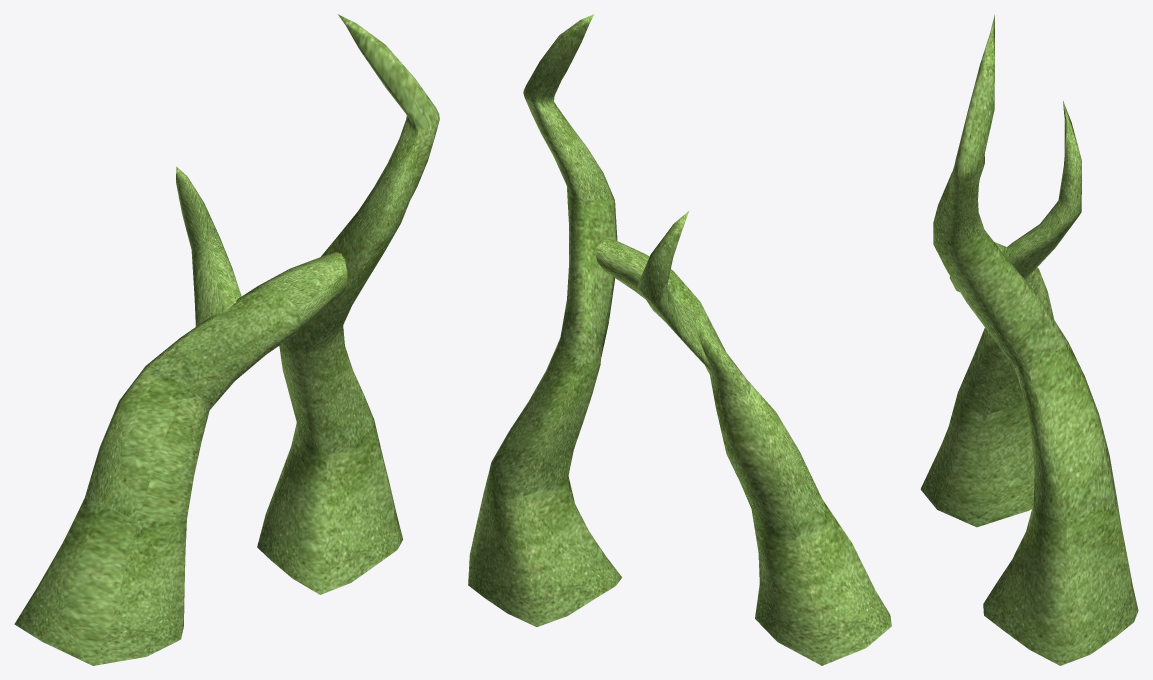
The picture shows the model from 3 angles, left to right: view 1: azimuth 30°, elevation 25°; view 2: azimuth 150°, elevation 25°; view 3: azimuth 270°, elevation 25°; orthographic projection. The views are drawn at different scales.
Parts seen in each view (by area): view 1: ColobotMesh_1.001_ColobotMesh_.001, ColobotMesh_1.002_ColobotMesh_.002, ColobotMesh_1_ColobotMesh_; view 2: ColobotMesh_1.002_ColobotMesh_.002, ColobotMesh_1.001_ColobotMesh_.001, ColobotMesh_1_ColobotMesh_; view 3: ColobotMesh_1.002_ColobotMesh_.002, ColobotMesh_1.001_ColobotMesh_.001, ColobotMesh_1_ColobotMesh_.
Boxes of the visible parts, x1,y1,x2,y2 form: ColobotMesh_1.001_ColobotMesh_.001: (14, 252, 347, 665); ColobotMesh_1.002_ColobotMesh_.002: (257, 14, 439, 594); ColobotMesh_1_ColobotMesh_: (176, 166, 241, 326); ColobotMesh_1.002_ColobotMesh_.002: (468, 14, 621, 626); ColobotMesh_1.001_ColobotMesh_.001: (596, 239, 891, 665); ColobotMesh_1_ColobotMesh_: (637, 211, 711, 370); ColobotMesh_1.002_ColobotMesh_.002: (933, 14, 1138, 665); ColobotMesh_1.001_ColobotMesh_.001: (920, 242, 1053, 527); ColobotMesh_1_ColobotMesh_: (1007, 101, 1081, 279).
Bounding box in the file's own units: 10.91 × 15.04 × 4.94.
